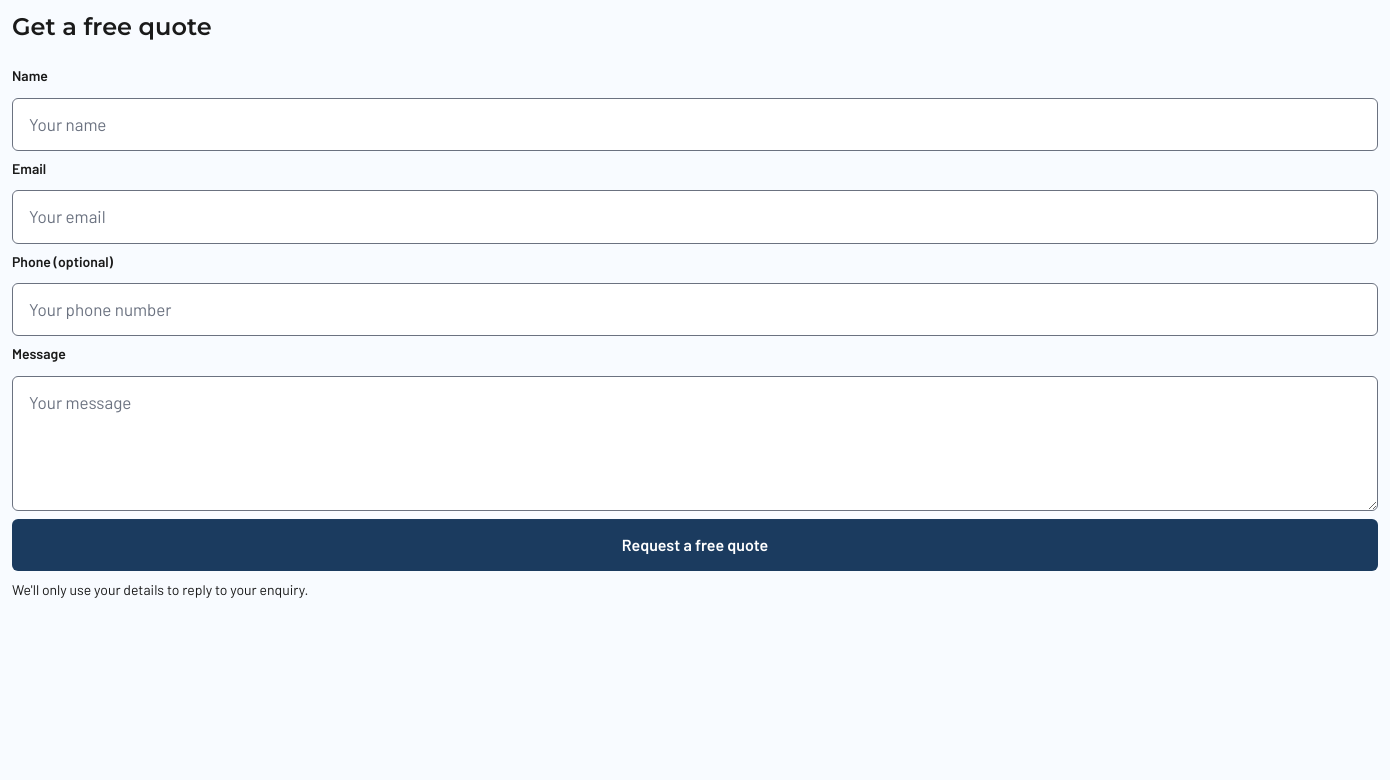
QuoteRequest › announces success in the status region and clears the form
Type "Sam" into the field labelled "Name" at (695, 124), box x1=12 y1=98 x2=1378 y2=151
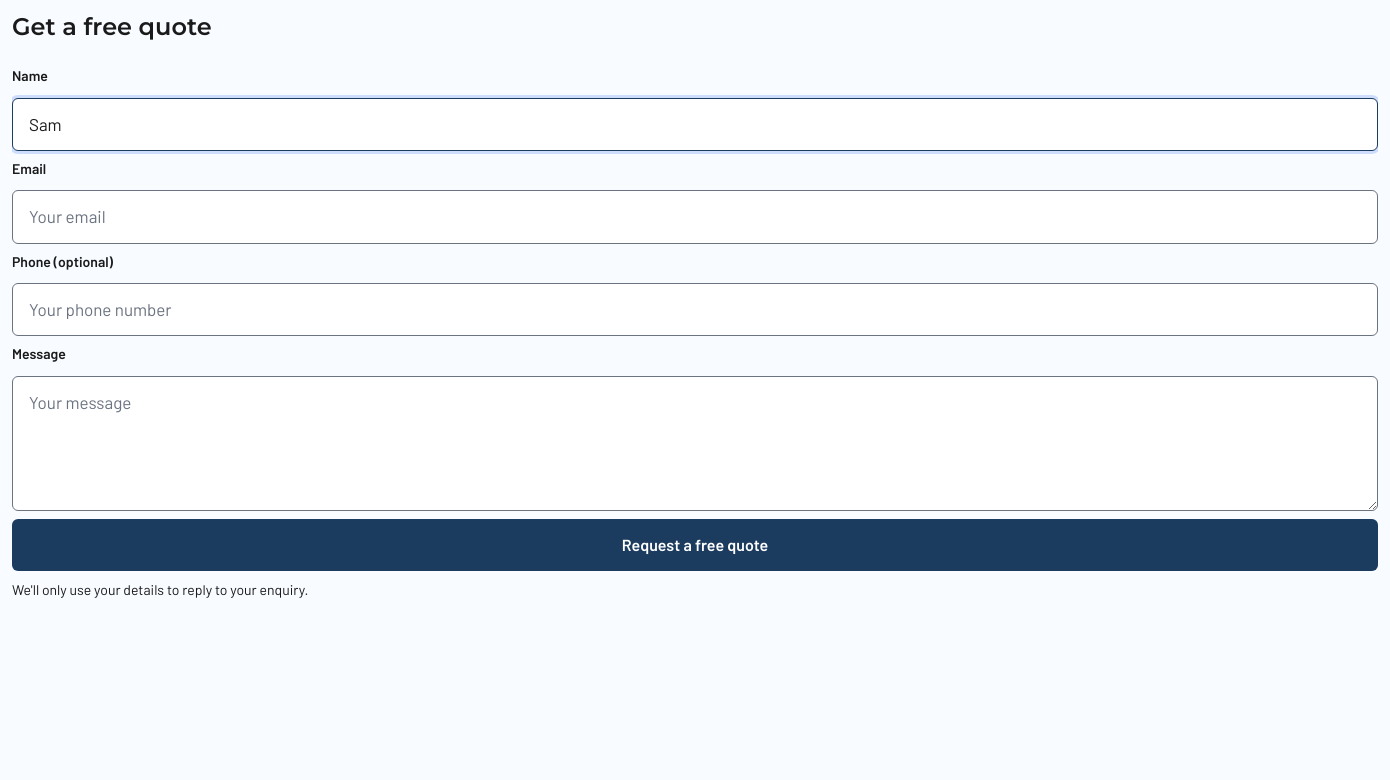
Type "sam@example.com" into the field labelled "Email" at (695, 217), box x1=12 y1=190 x2=1378 y2=244
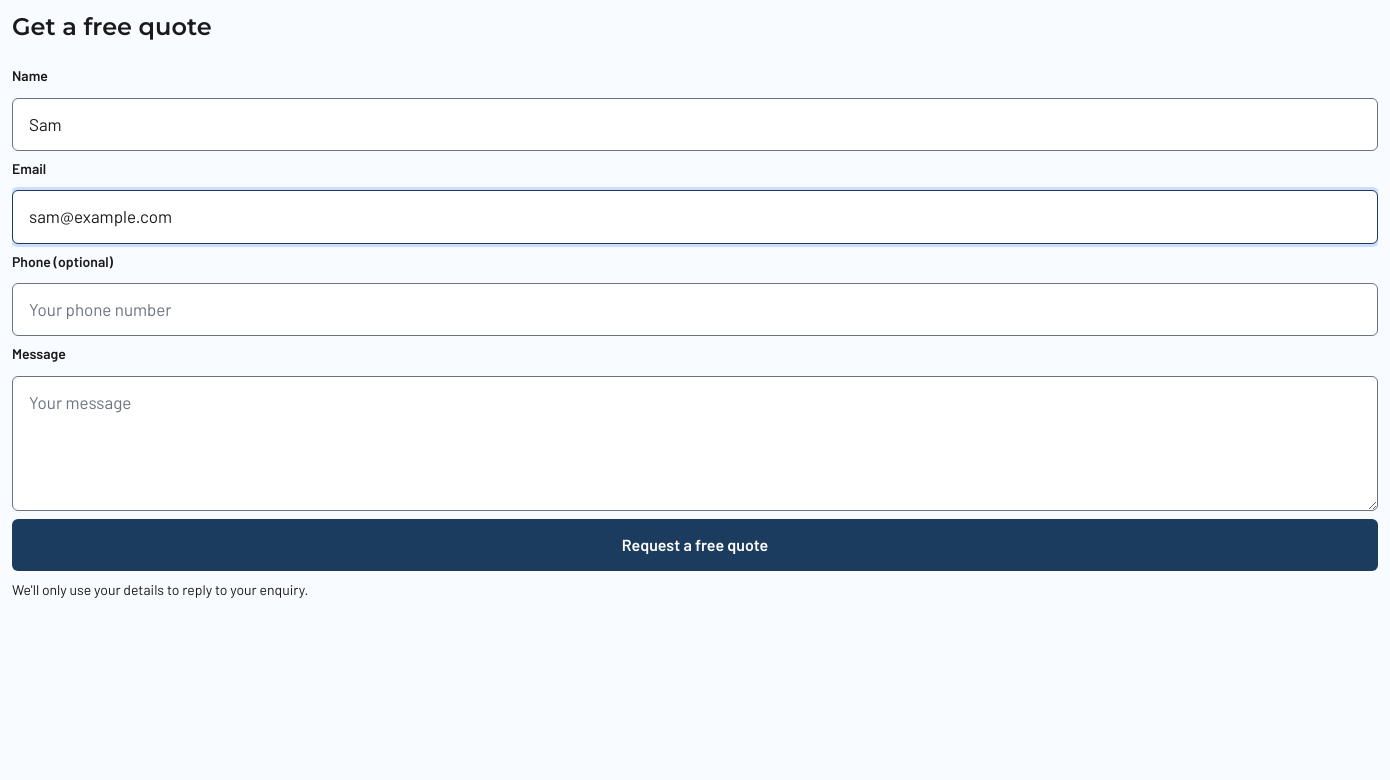
Type "A quote for 10m of fencing please" into the text box labelled "Message" at (695, 443), box x1=12 y1=376 x2=1378 y2=511
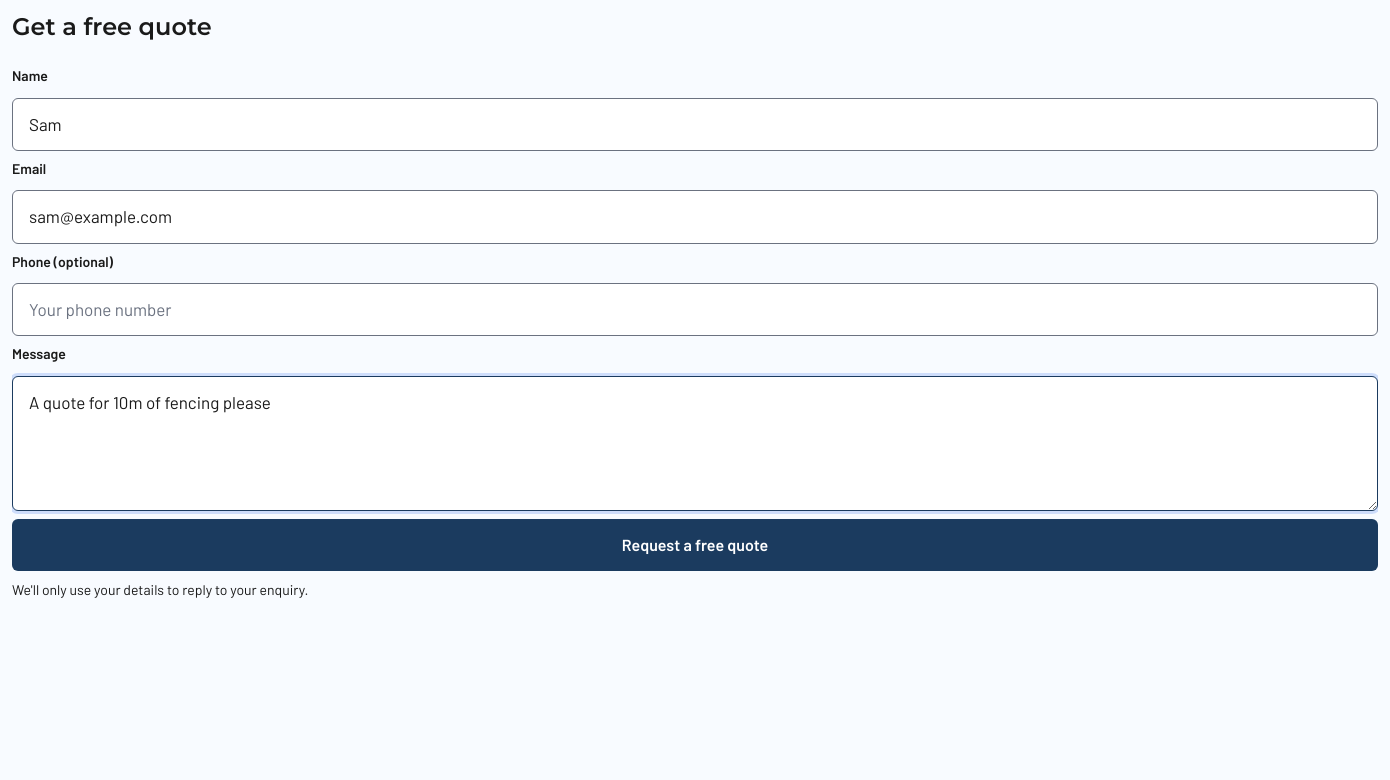
Click the button "Request a free quote" at (695, 545), box x1=12 y1=519 x2=1378 y2=571
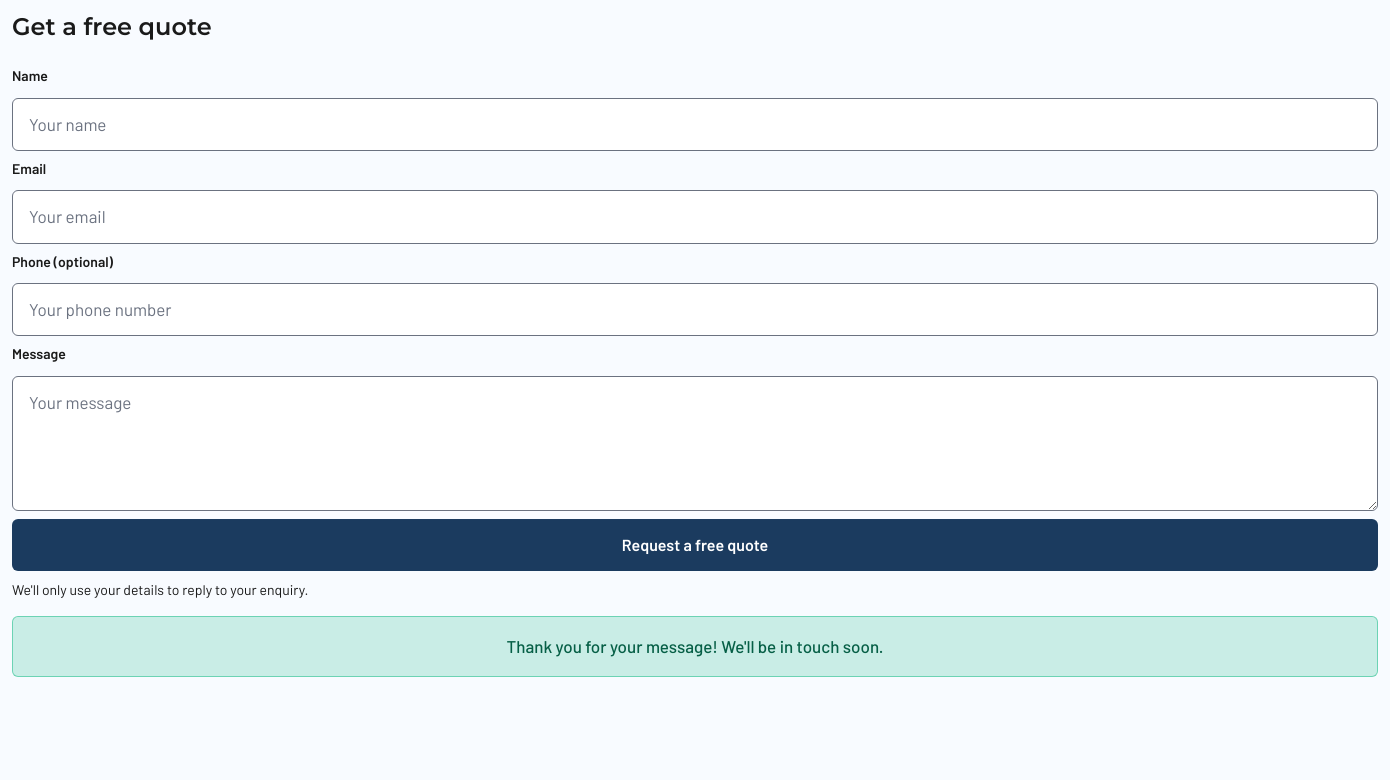
Expected: the message shows "Thank you", x1=506 y1=636 x2=884 y2=656
Expected: the field labelled "Name" is empty, x1=12 y1=98 x2=1378 y2=151
